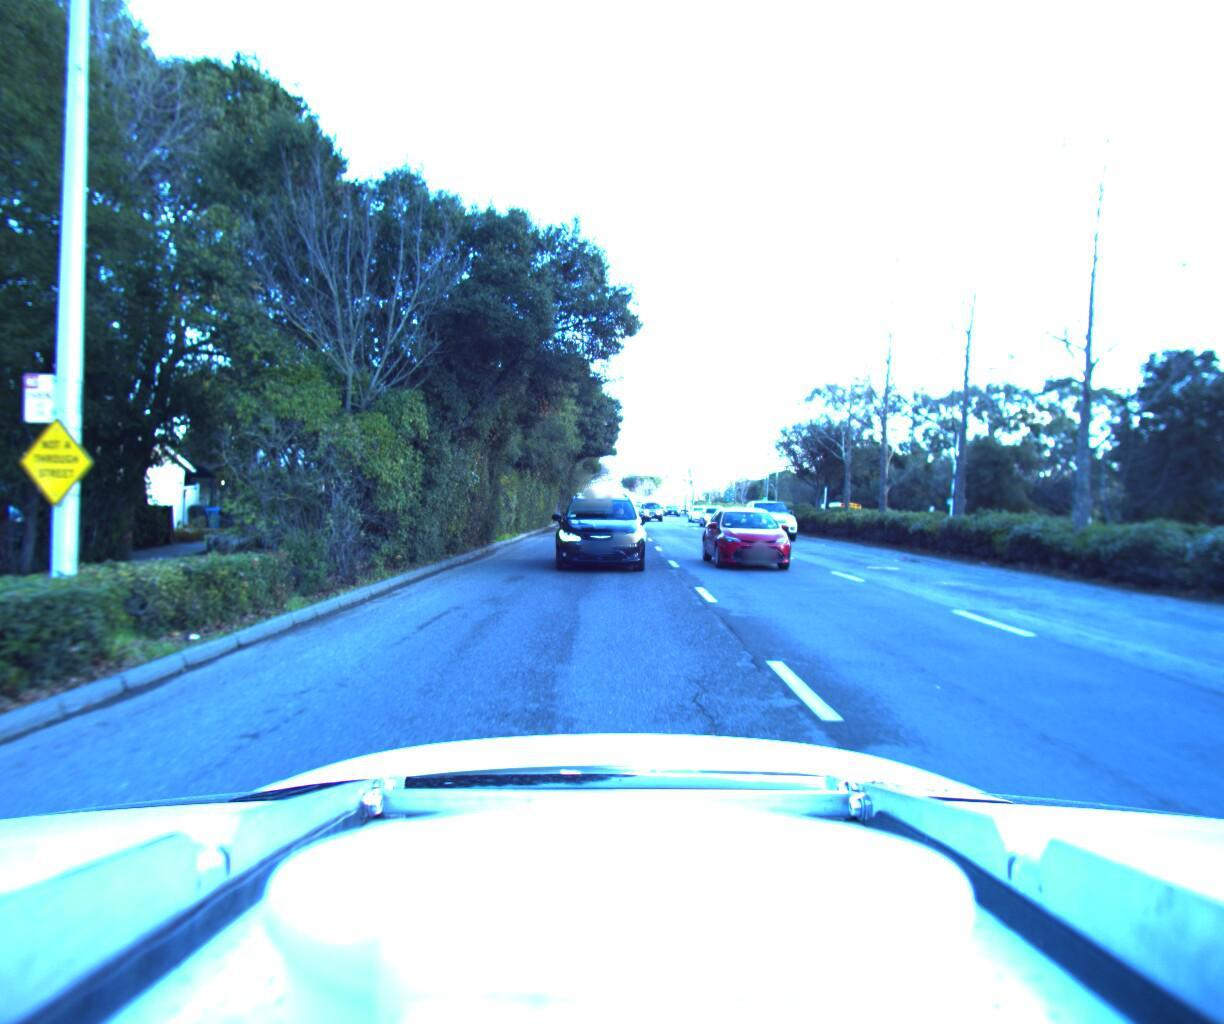bus: (816, 495, 858, 522)
car: (698, 495, 816, 579), (551, 481, 647, 575), (743, 493, 809, 538), (637, 498, 663, 519), (686, 501, 714, 520), (1222, 500, 1224, 601)
